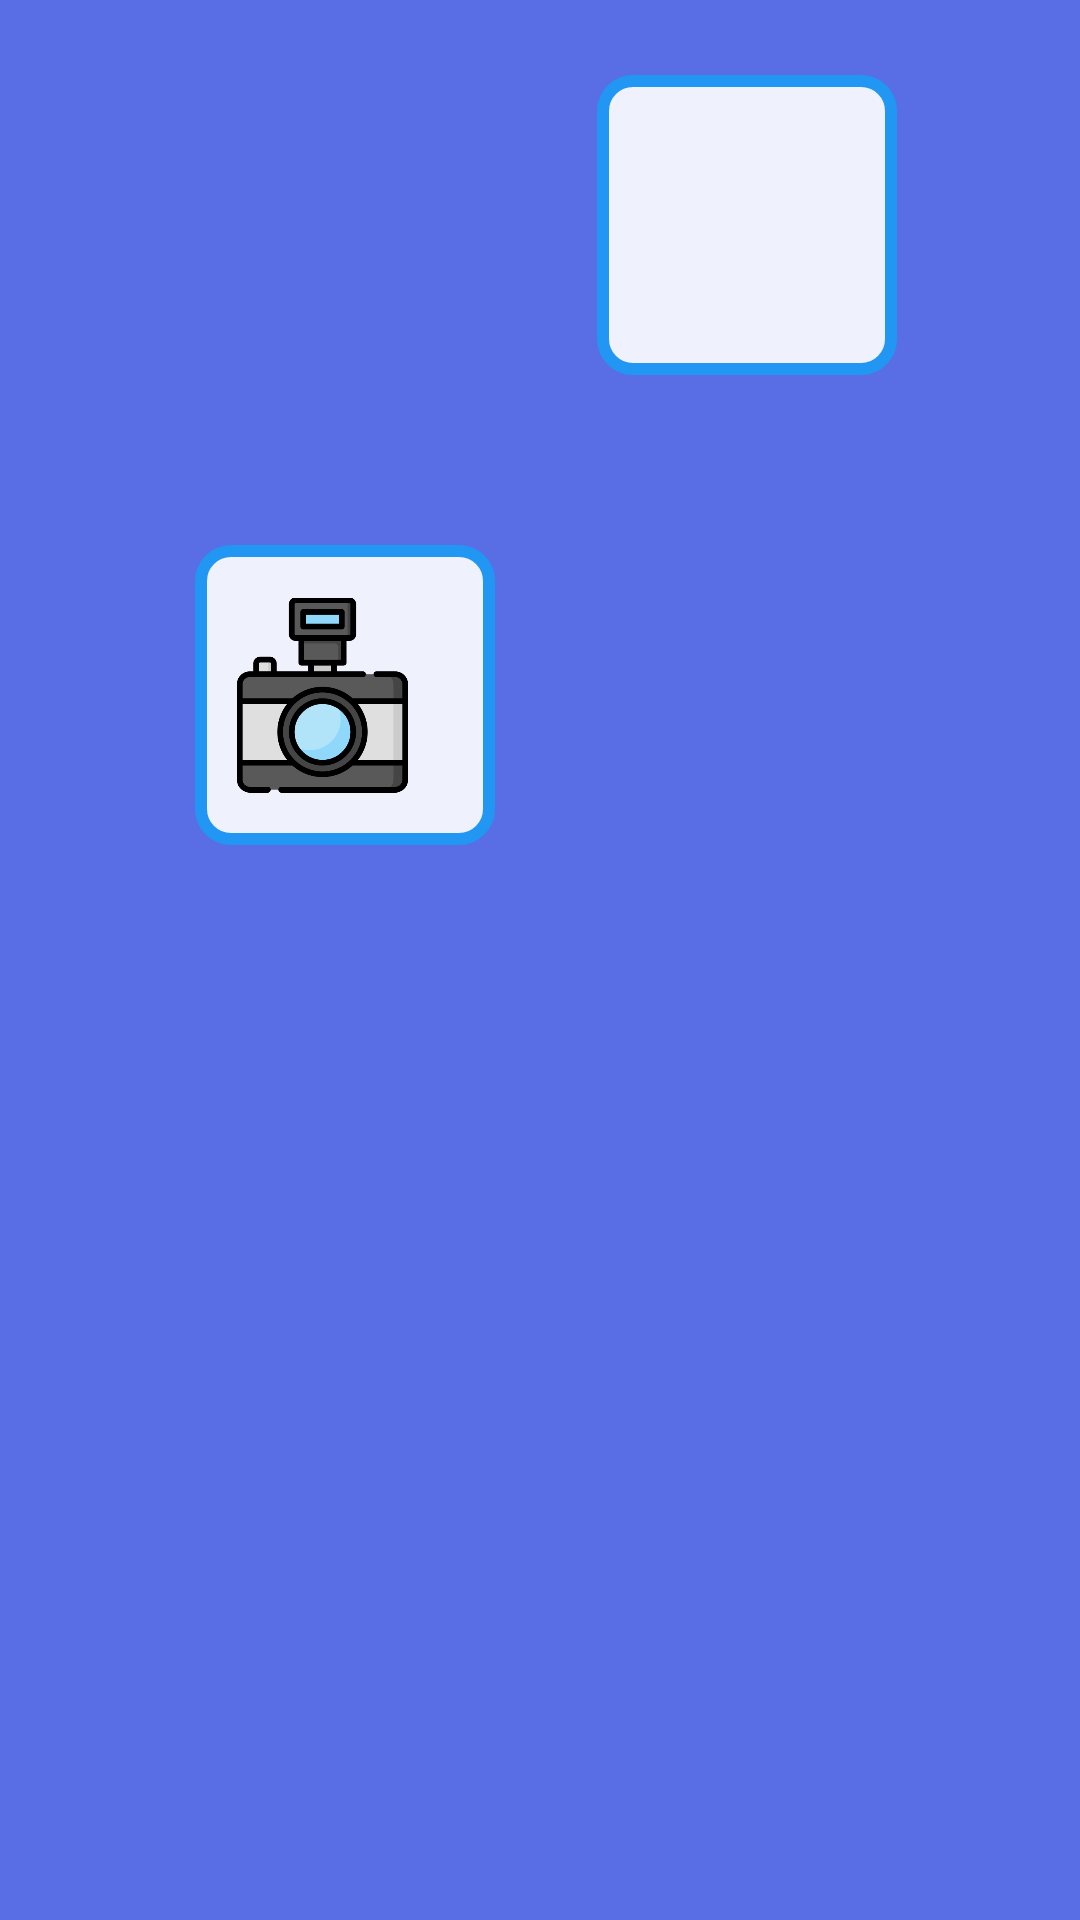

Where icons sit on this 1080×1920 app screen, as [left=x1, top=y1, right=x2, bottom=y2]:
camera: [left=195, top=545, right=495, bottom=845]
